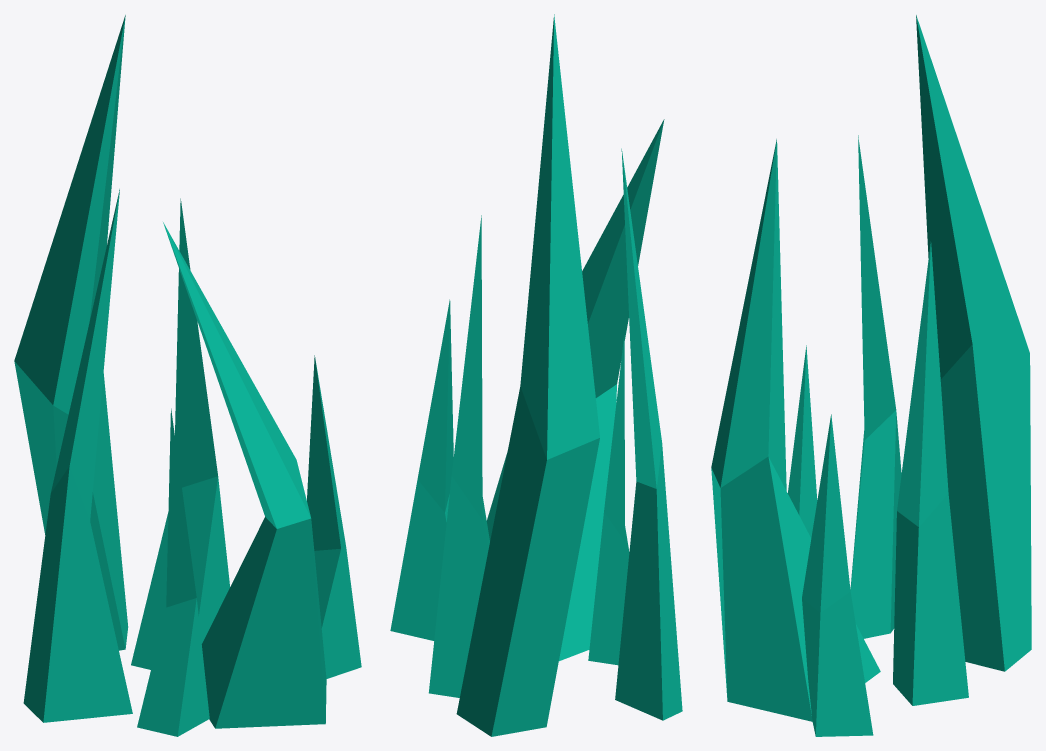
The model's file is GrassFinal2.fbx.
3 views of the same model, side by side, from view 1: azimuth 30°, elevation 25°; view 2: azimuth 150°, elevation 25°; view 3: azimuth 270°, elevation 25° (orthographic). The views are drawn at different scales.
Visible parts, largest first — view 1: Cube.001; view 2: Cube.001; view 3: Cube.001.
Boxes of the visible parts, <box> form: Cube.001: <box>14,15,361,736</box>; Cube.001: <box>390,14,682,736</box>; Cube.001: <box>711,15,1031,736</box>.
Bounding box in the file's own units: 0.515 × 1.14 × 0.5148.
